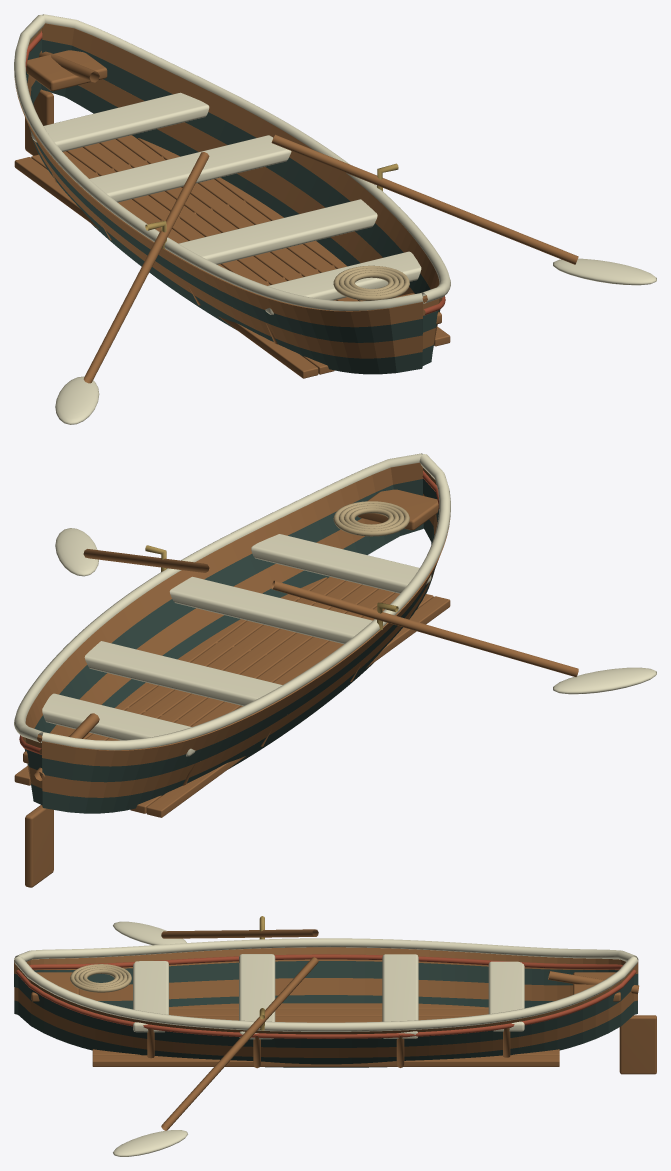
The model's file is boat.glb.
3 renders of one model, top to bottom at view 1: azimuth 30°, elevation 25°; view 2: azimuth 150°, elevation 25°; view 3: azimuth 270°, elevation 25°, orthographic. The views are drawn at different scales.
Visible parts, largest first — view 1: Hull strake.007, Ivory gunwale, Cross thwart.002, Hull strake.006, Cross thwart.001, Hull strake.003, Ivory gunwale.001, Cross thwart, Hull strake.002, Hull strake.005, Hull strake.001, Hull strake (+18 smaller); view 2: Hull strake.007, Ivory gunwale, Cross thwart.002, Cross thwart.001, Hull strake.003, Hull strake.006, Ivory gunwale.001, Cross thwart.003, Hull strake.002, Hull strake.001, Hull strake.005, Hull strake (+17 smaller); view 3: Hull strake.005, Ivory gunwale.001, Ivory gunwale, Hull strake.006, Hull strake.001, Hull strake.002, Hull strake.003, Hull strake.004, Floor plank.008, Red sheer line.001, Cross thwart.001, Red sheer line (+18 smaller).
Part boxes in pixels (x1,y1,x2,y2): Hull strake.007: (42, 23, 442, 315); Ivory gunwale: (14, 14, 423, 310); Cross thwart.002: (179, 199, 377, 264); Hull strake.006: (42, 39, 440, 332); Cross thwart.001: (89, 135, 291, 202); Hull strake.003: (14, 28, 422, 327); Ivory gunwale.001: (42, 14, 450, 303); Cross thwart: (31, 92, 209, 151); Hull strake.002: (26, 39, 422, 342); Hull strake.005: (78, 79, 437, 349); Hull strake.001: (27, 75, 422, 358); Hull strake: (30, 80, 422, 374); Hull strake.007: (22, 462, 422, 754); Ivory gunwale: (41, 454, 450, 750); Cross thwart.002: (169, 576, 372, 643); Cross thwart.001: (84, 641, 282, 705); Hull strake.003: (42, 468, 450, 766); Hull strake.006: (24, 479, 422, 769); Ivory gunwale.001: (14, 453, 422, 742); Cross thwart.003: (251, 534, 431, 593); Hull strake.002: (42, 478, 438, 782); Hull strake.001: (42, 494, 437, 797); Hull strake.005: (27, 495, 423, 788); Hull strake: (42, 519, 434, 813); Hull strake.005: (18, 988, 633, 1057); Ivory gunwale.001: (14, 956, 638, 1031); Ivory gunwale: (14, 938, 638, 961); Hull strake.006: (18, 976, 633, 1047); Hull strake.001: (14, 978, 637, 1001); Hull strake.002: (14, 961, 638, 987); Hull strake.003: (14, 947, 638, 974); Hull strake.004: (18, 1002, 633, 1067); Floor plank.008: (92, 1055, 559, 1066); Red sheer line.001: (16, 969, 636, 1038); Cross thwart.001: (382, 954, 418, 1038); Red sheer line: (29, 954, 622, 969).
Bounding box in the file's own units: 5.21 × 1.35 × 6.05.
